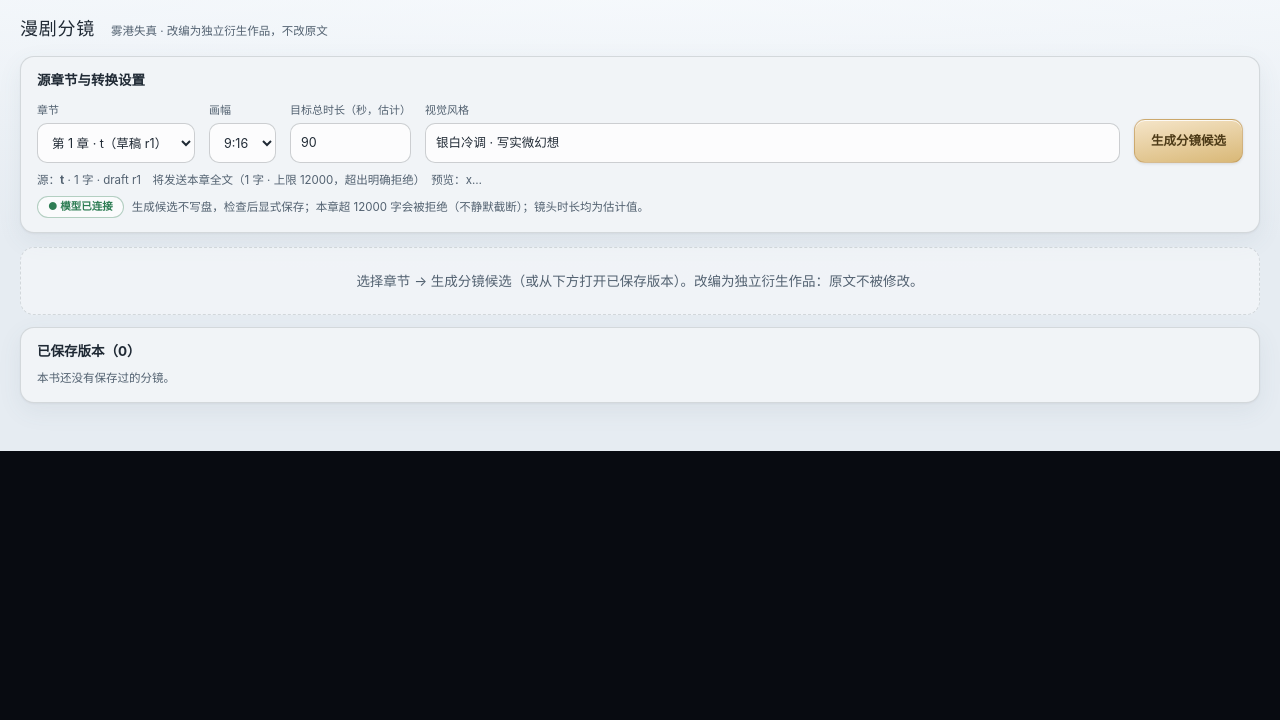
Test: StoryboardView 脏注册（U06 外壳联动源 · U05 徽标真源） › 空工作区=idle；生成候选=dirty；保存成功=saved；卸载=idle
The width and height of the screenshot is (1280, 720).
Click the button with test id "sb-generate" at (1188, 141), box [1134,119,1243,163]
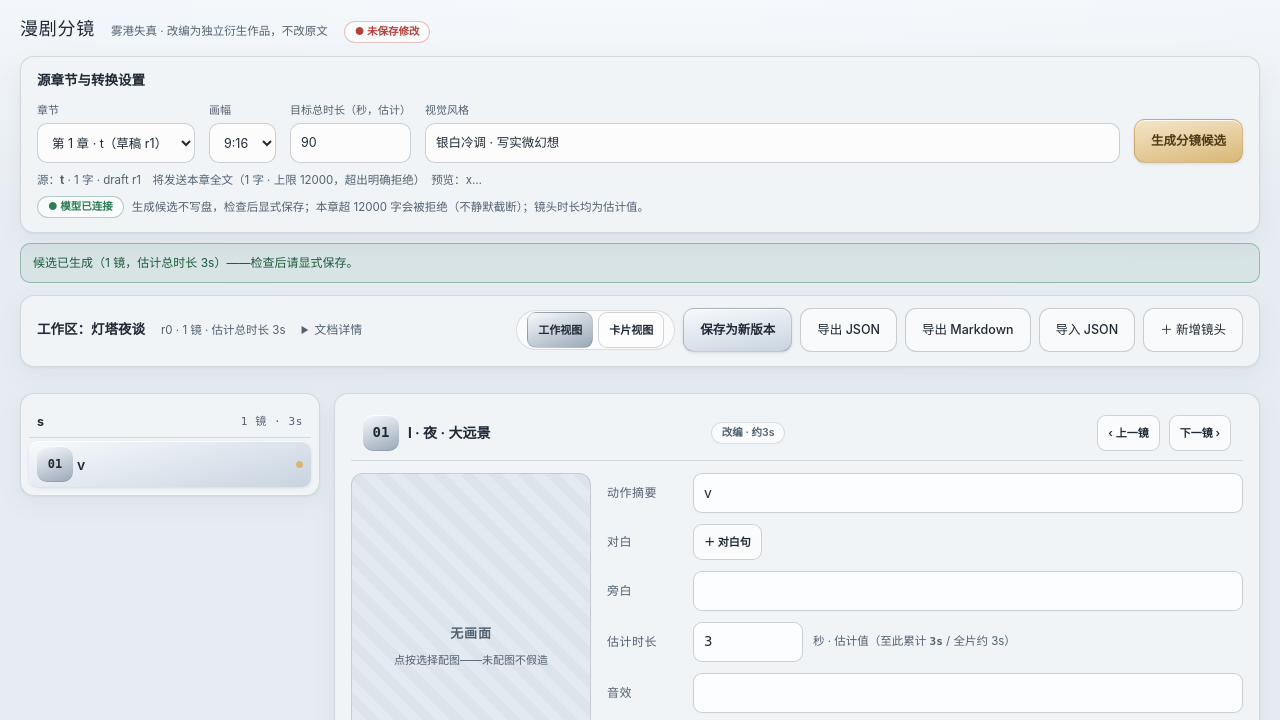
Click the button with test id "sb-save" at (738, 330), box [683,308,792,352]
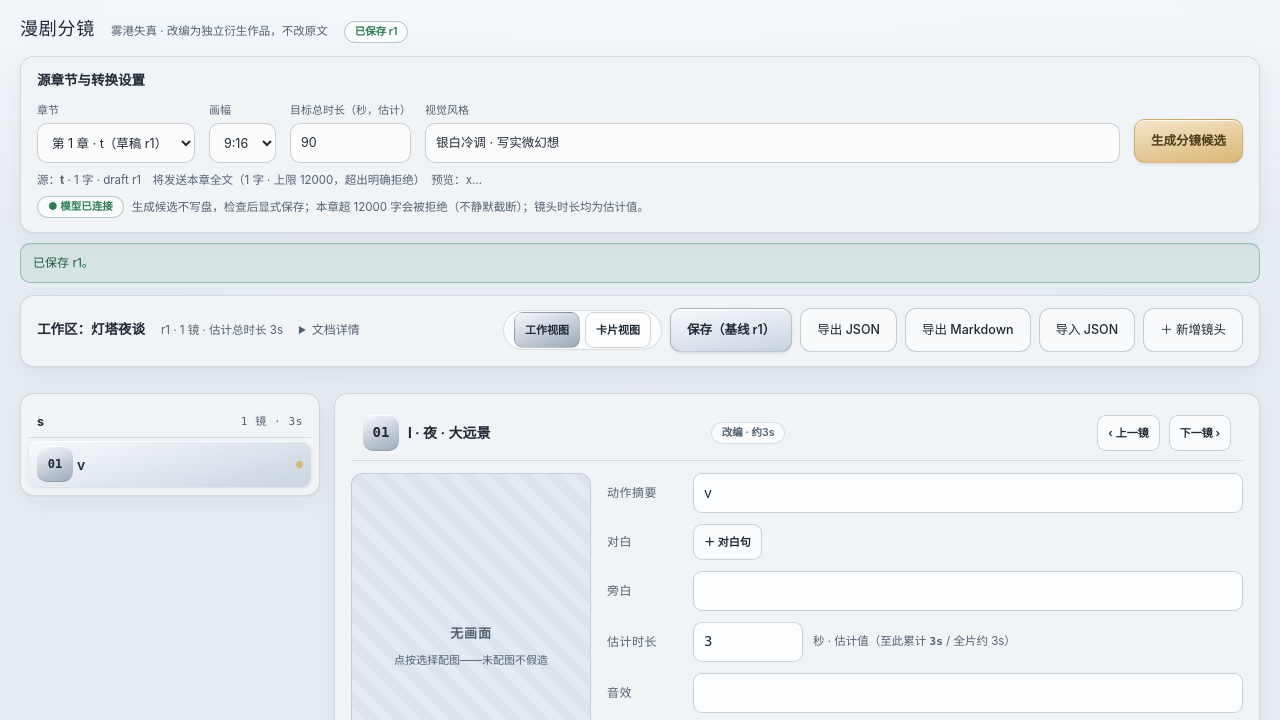
Now the message with test id "sb-notice" shows "已保存 r1", box [33,255,94,270]
